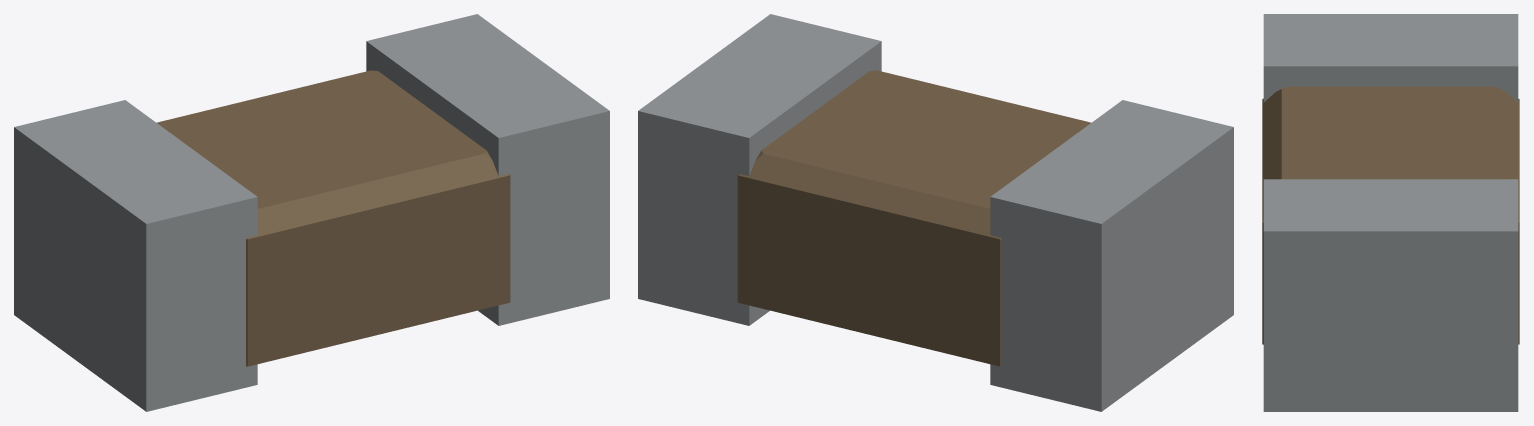
3 renders of one model, left to right at view 1: azimuth 30°, elevation 25°; view 2: azimuth 150°, elevation 25°; view 3: azimuth 270°, elevation 25°, orthographic. The views are drawn at different scales.
Visible parts, largest first — view 1: C_S043__Solder, C_S043__Ceramic; view 2: C_S043__Solder, C_S043__Ceramic; view 3: C_S043__Solder, C_S043__Ceramic.
Part boxes in pixels (x1,y1,x2,y2): C_S043__Solder: (14,14,609,411); C_S043__Ceramic: (157,70,510,366); C_S043__Solder: (638,14,1233,411); C_S043__Ceramic: (737,70,1090,366); C_S043__Solder: (1263,14,1518,411); C_S043__Ceramic: (1262,86,1519,344).
Size of the model in its own units: 1.6 by 0.62 by 0.8.
